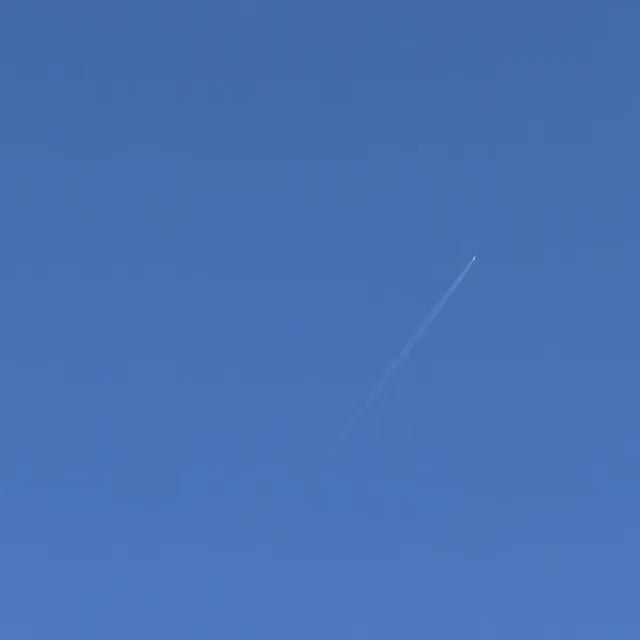AirPlane: (427, 248, 484, 325)
